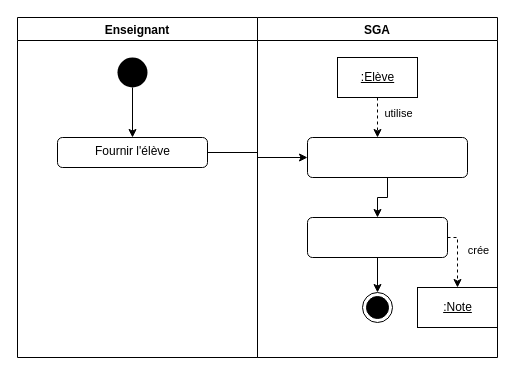
Some shapes in this 515 by 375 pixel diagram are drawn without their labels. The centre of each missing label's shape, as x and y in pixels:
"Calculer la moyenne" goes at point (377, 237).
"Récupérer les notes de l'élève" goes at point (387, 157).
